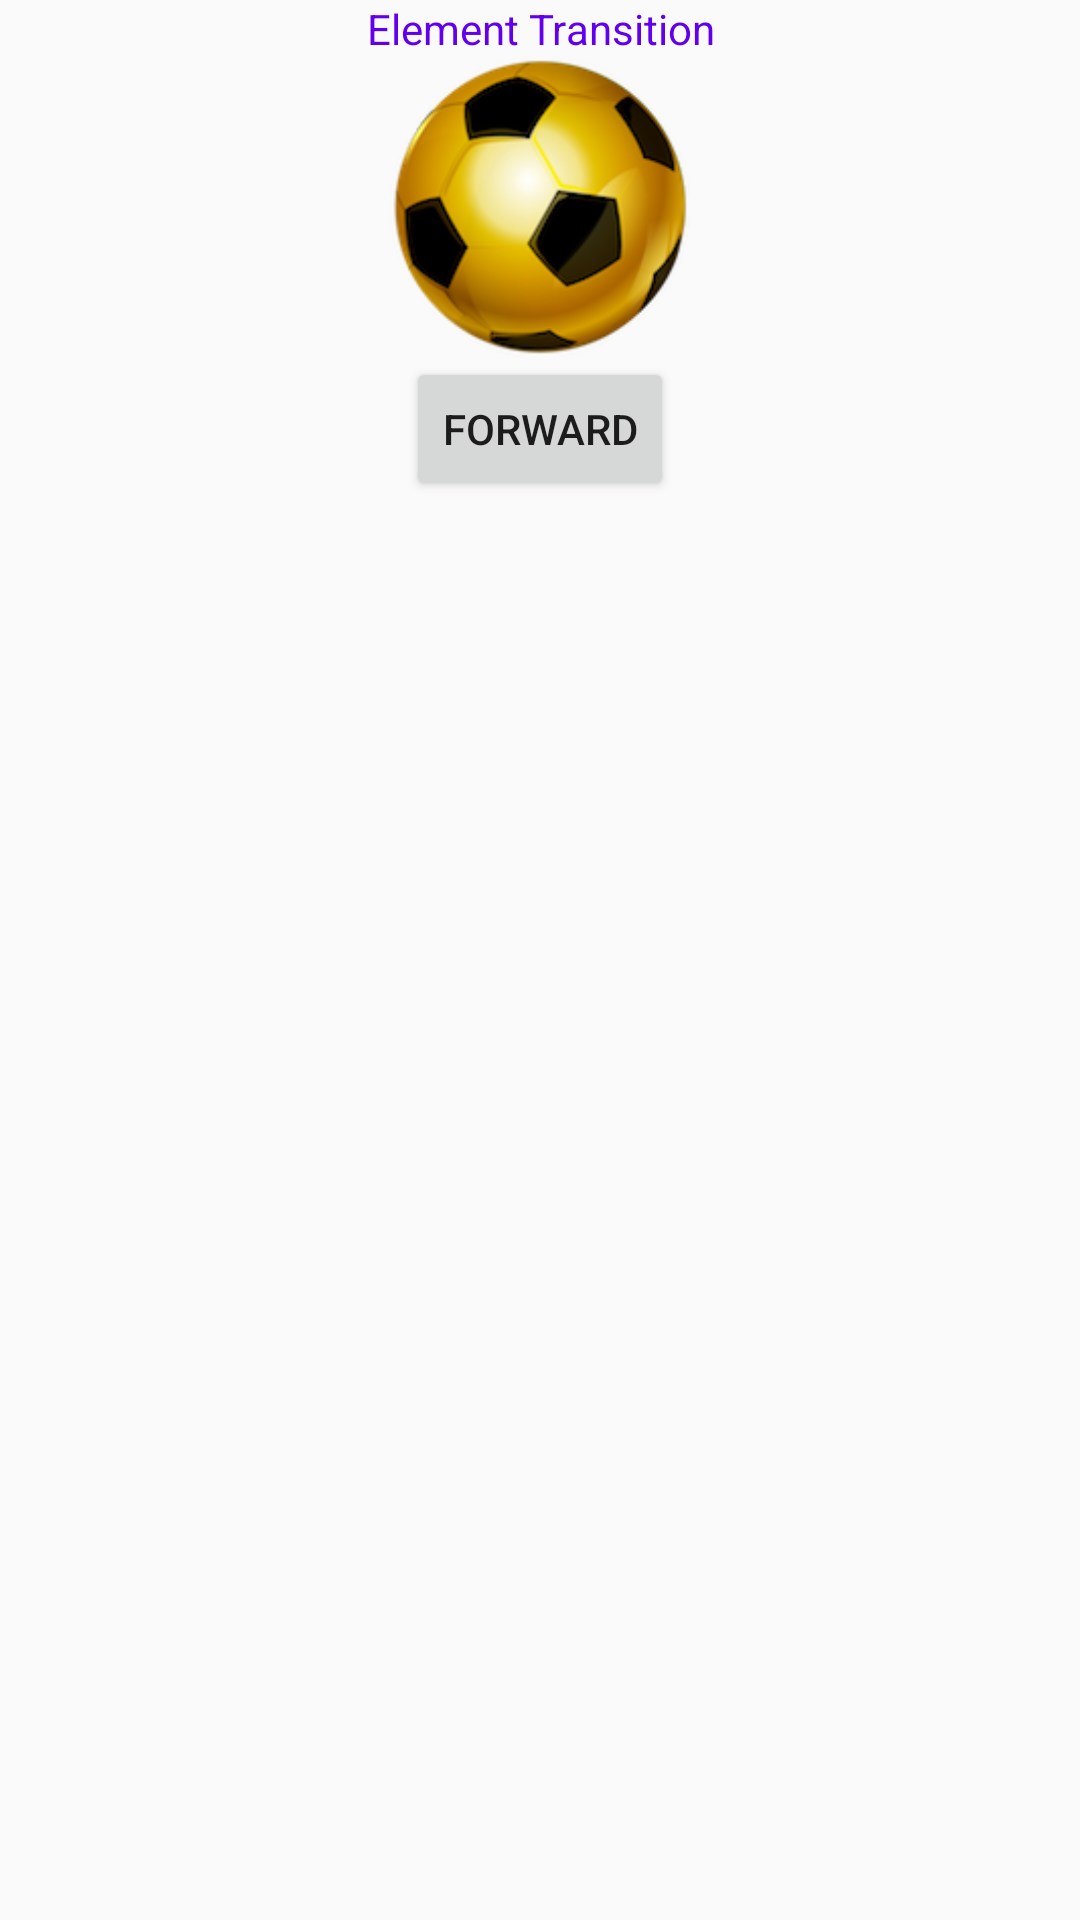

Where icons sit on this 1080px×1920px app screen, as (x1, y1, x2, y2):
ball: (394, 60, 687, 354)
